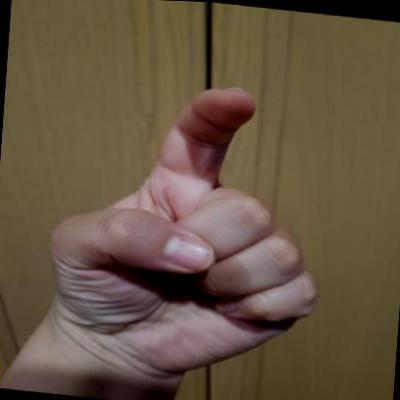hand: (35, 63, 338, 393)
